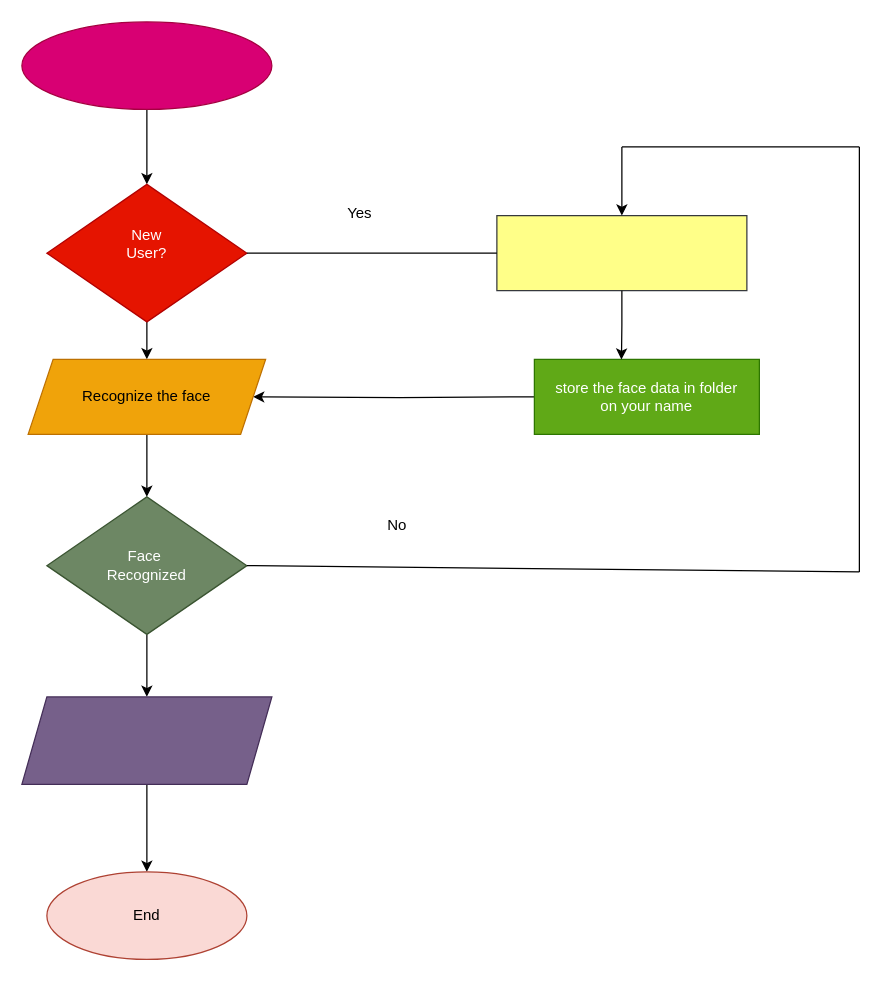
This 883x981 diagram has some shape labels left out. Each missing label, with the centre of its shape:
"Give your photograph" belongs at (621,252).
"Start" belongs at (146,65).
"stored in csv file with Registraton Number&Date Time of Entry" belongs at (146,740).
